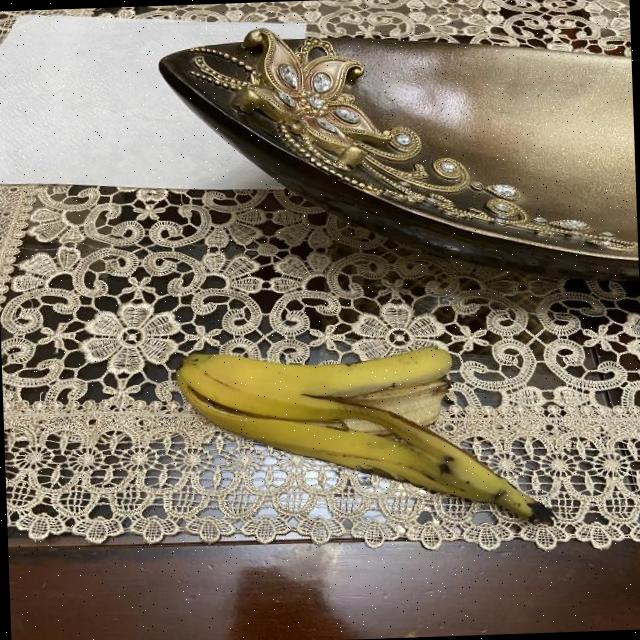banana-peel: (173, 336, 556, 538)
